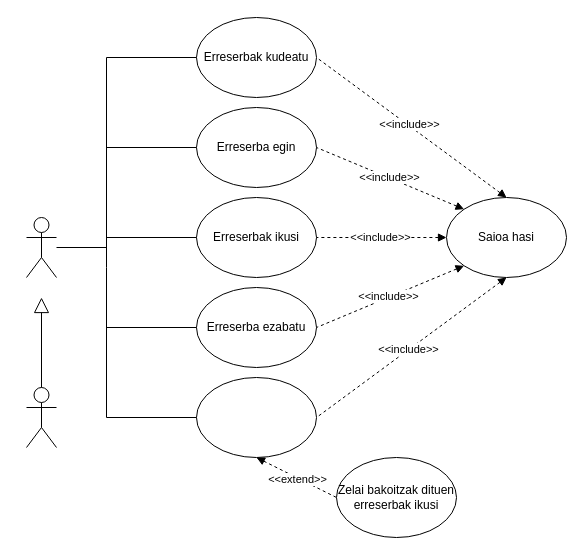
This 584x555 diagram has some shape labels left out. The shapes that lost their labels are listed below. From the top down, each one's centre as x and y in pixels, then its label:
the point at 41,247: Kluba
the point at 41,417: Bazkidea
the point at 256,417: Zelaiak ikusi
